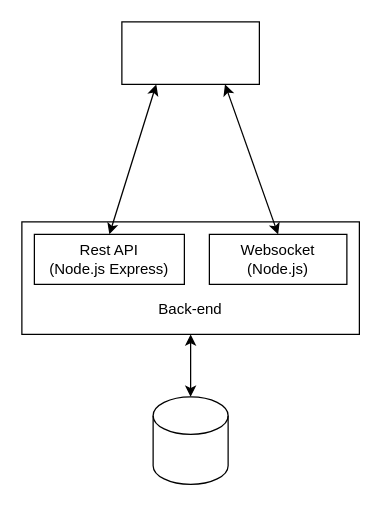
The diagram is 381 pixels wide and 506 high, and some of its shapes have lost their labels. Each missing label, with the centre of its shape:
Front-end SPA (Angular): the point at 190,52
Psql: the point at 190,440
